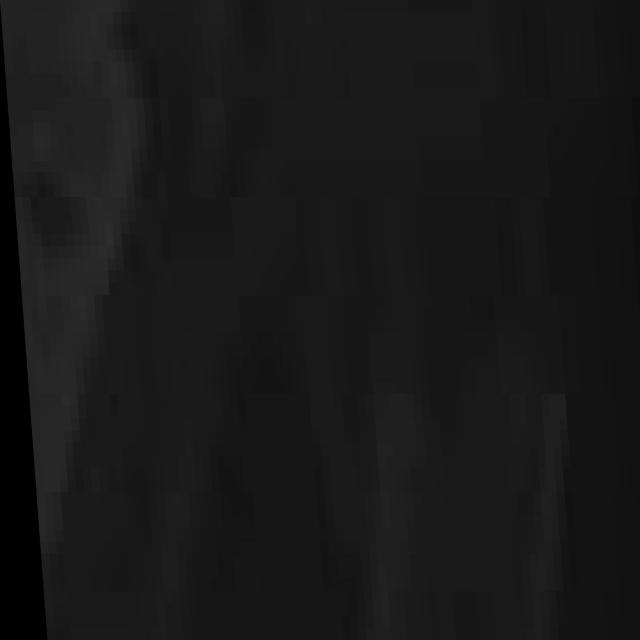fracture: (26, 8, 640, 640)
